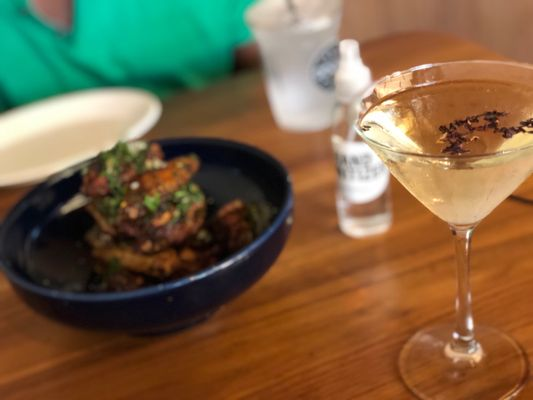sushi: (2, 137, 295, 335), (0, 85, 164, 190)
